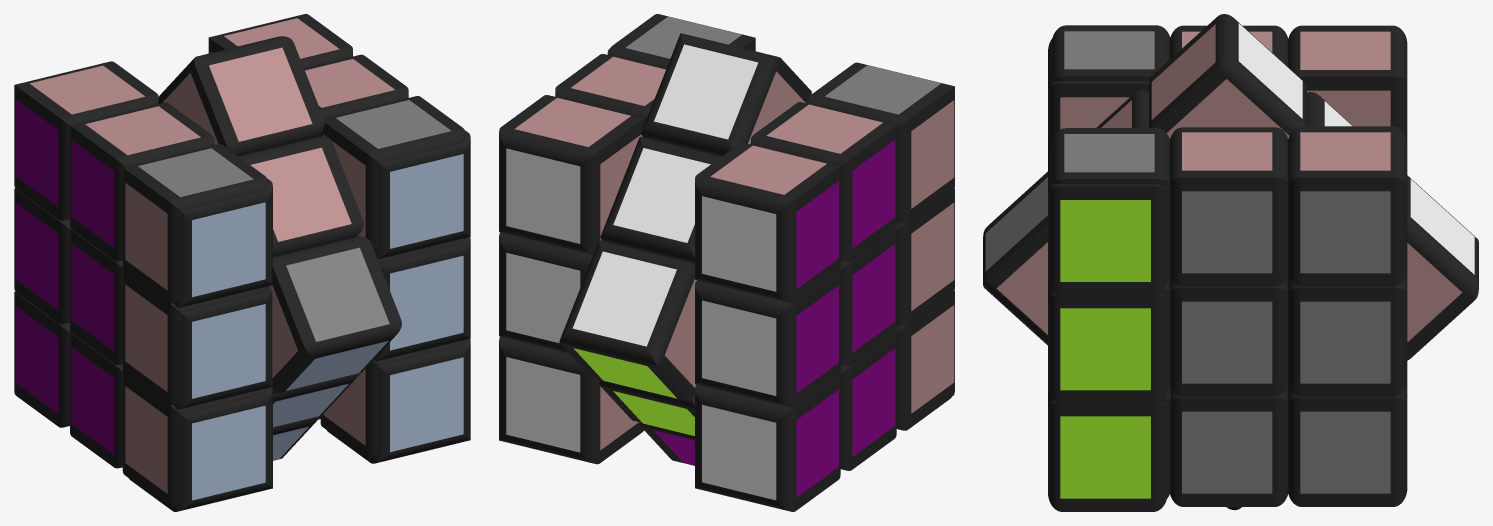
3 renders of one model, left to right at view 1: azimuth 30°, elevation 25°; view 2: azimuth 150°, elevation 25°; view 3: azimuth 270°, elevation 25°, orthographic. The views are drawn at different scales.
Visible parts, largest first — view 1: animated rubik s cube; view 2: animated rubik s cube; view 3: animated rubik s cube.
Boxes of the visible parts, left/top/right/bottom form: animated rubik s cube: left=14, top=14, right=470, bottom=511; animated rubik s cube: left=499, top=14, right=954, bottom=511; animated rubik s cube: left=983, top=14, right=1478, bottom=511.
Bounding box in the file's own units: 223 × 299 × 300.
